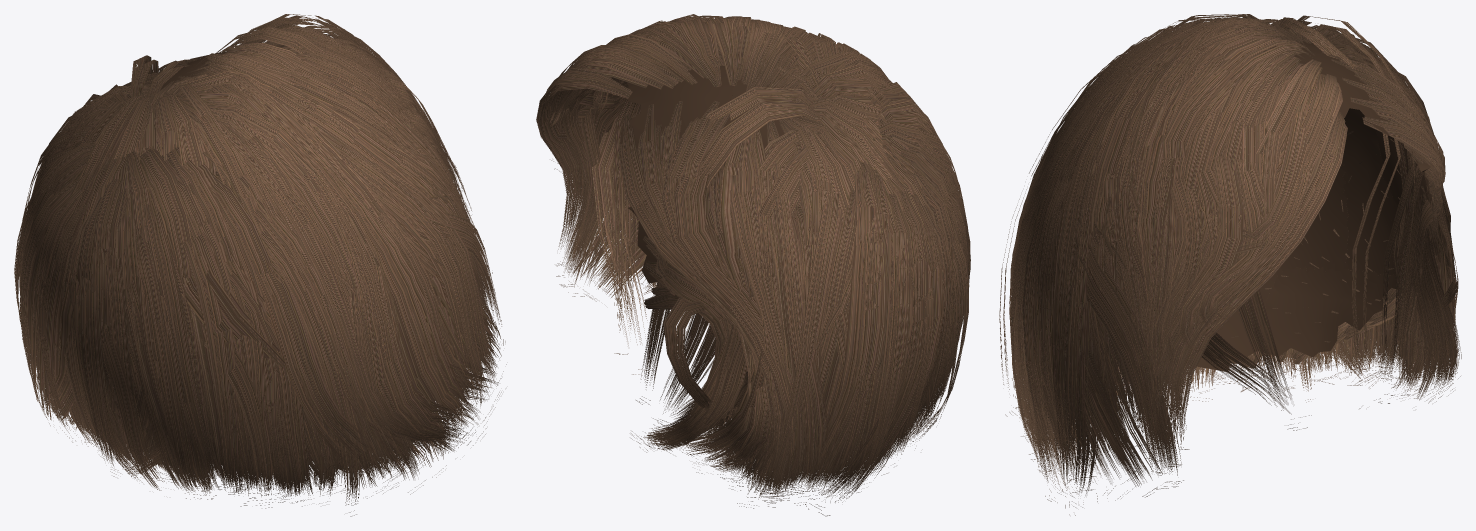
Rendered from hair-female-bob.glb.
The picture shows the model from 3 angles, left to right: view 1: azimuth 30°, elevation 25°; view 2: azimuth 150°, elevation 25°; view 3: azimuth 270°, elevation 25°; orthographic projection. The views are drawn at different scales.
Visible parts, largest first — view 1: Hair_bob_cards; view 2: Hair_bob_cards, Hair_bob_cap; view 3: Hair_bob_cards, Hair_bob_cap.
Part boxes in pixels (x1,y1,x2,y2): Hair_bob_cards: [14, 14, 506, 516]; Hair_bob_cards: [536, 14, 970, 516]; Hair_bob_cap: [620, 61, 842, 283]; Hair_bob_cards: [999, 14, 1461, 515]; Hair_bob_cap: [1164, 41, 1434, 371].
Size of the model in its own units: 0.245 by 0.2325 by 0.2192.
2 materials, 1 textured.
